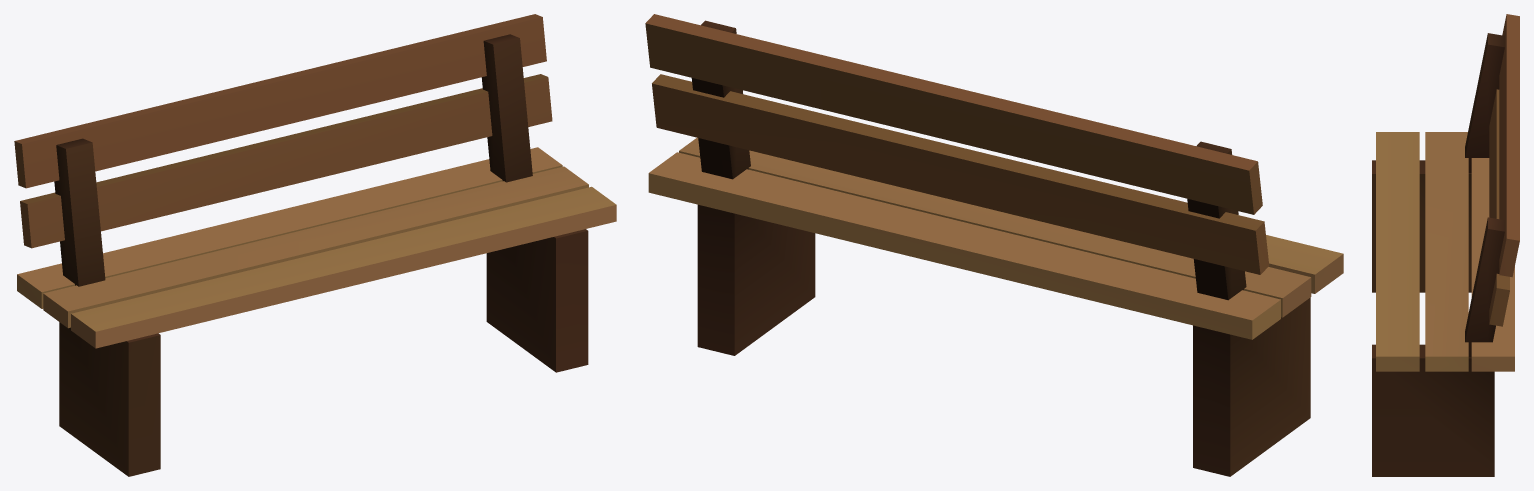
File: Meadow_Bench.fbx
The picture shows the model from 3 angles, left to right: view 1: azimuth 30°, elevation 25°; view 2: azimuth 150°, elevation 25°; view 3: azimuth 270°, elevation 25°; orthographic projection. The views are drawn at different scales.
Visible parts, largest first — view 1: Meadow_Bench; view 2: Meadow_Bench; view 3: Meadow_Bench.
Boxes of the visible parts, box(x1,y1,x2,y2) form: Meadow_Bench: box(14, 14, 616, 476); Meadow_Bench: box(645, 14, 1343, 476); Meadow_Bench: box(1372, 14, 1519, 476).
Bounding box in the file's own units: 1.95 × 1.02 × 0.5426.
